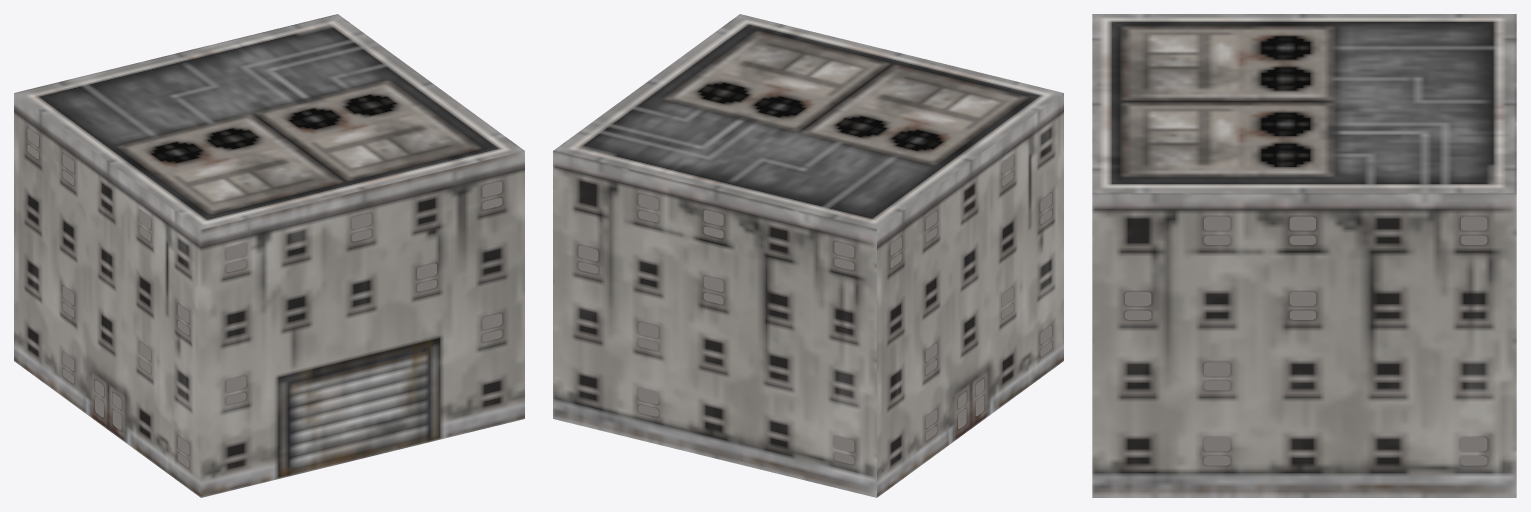
Rendered from city4storyb.glb.
The picture shows the model from 3 angles, left to right: view 1: azimuth 30°, elevation 25°; view 2: azimuth 150°, elevation 25°; view 3: azimuth 270°, elevation 25°; orthographic projection. The views are drawn at different scales.
Visible parts, largest first — view 1: City4Story_, LitWin_City4Story; view 2: City4Story_, LitWin_City4Story; view 3: City4Story_, LitWin_City4Story.
Part boxes in pixels (box(x1,y1,x2,y2)): City4Story_: box(14, 14, 524, 497); LitWin_City4Story: box(27, 128, 502, 467); City4Story_: box(553, 14, 1063, 497); LitWin_City4Story: box(578, 155, 1051, 464); City4Story_: box(1092, 14, 1516, 497); LitWin_City4Story: box(1125, 216, 1487, 465).
Bounding box in the file's own units: 17.92 × 14.18 × 17.92.
1 material, 1 textured.
